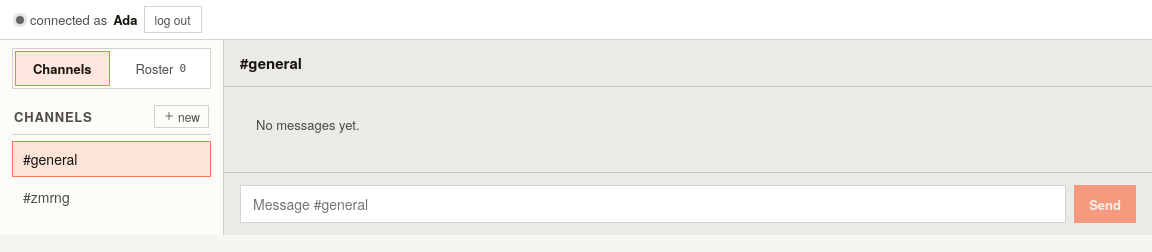
Test: TeamView navigation › shows channels and roster as tabs, one list at a time
The image size is (1152, 252).
Expected: the button "#general" is shown, left=12, top=141, right=211, bottom=177
Expected: the text "No members yet." is not shown
Click the tab "Roster 0" at (161, 68), box left=114, top=51, right=208, bottom=86
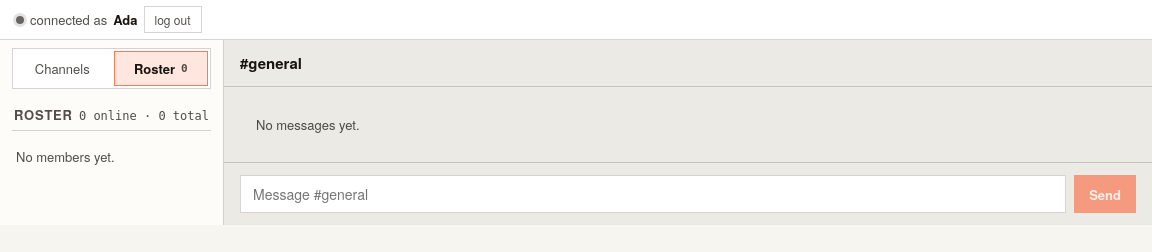
Expected: the list item "No members yet." is shown, left=16, top=147, right=115, bottom=166
